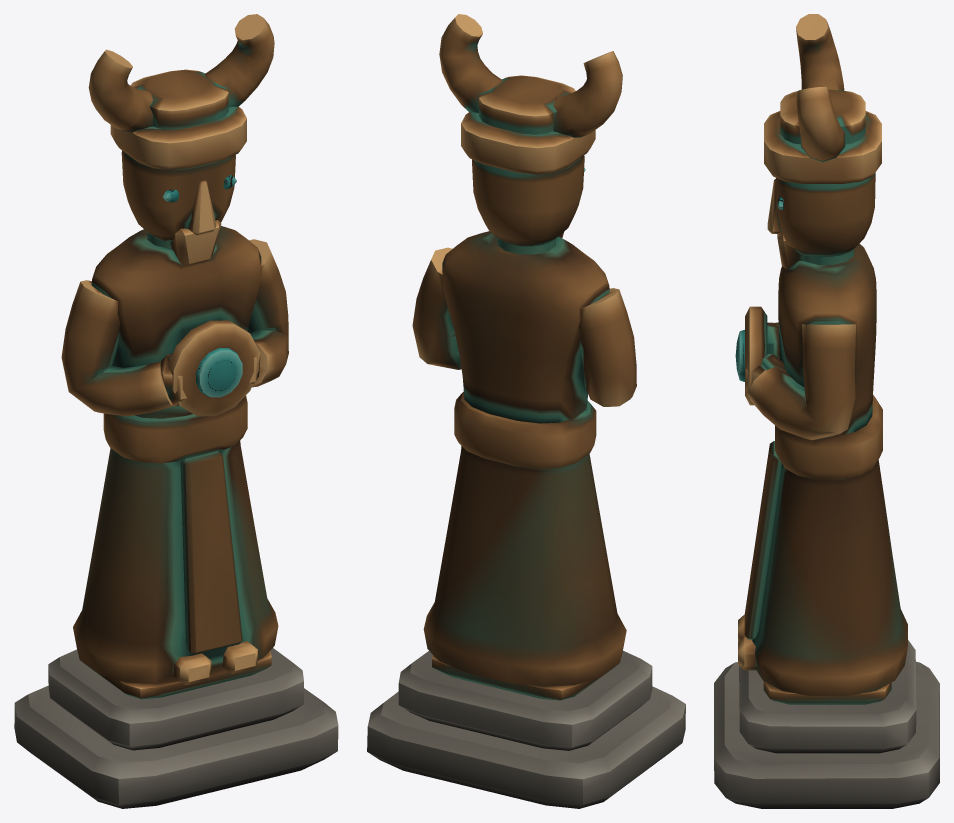
File: bronze_figure.fbx
3 renders of one model, left to right at view 1: azimuth 30°, elevation 25°; view 2: azimuth 150°, elevation 25°; view 3: azimuth 270°, elevation 25°, orthographic. The views are drawn at different scales.
Visible parts, largest first — view 1: bronze_figure_Body; view 2: bronze_figure_Body; view 3: bronze_figure_Body.
Part boxes in pixels (left/top/right/bottom): bronze_figure_Body: left=14, top=14, right=338, bottom=808; bronze_figure_Body: left=367, top=14, right=685, bottom=808; bronze_figure_Body: left=714, top=14, right=939, bottom=808.
Size of the model in its own units: 0.1074 by 0.3027 by 0.0879.
1 material, 1 textured.
